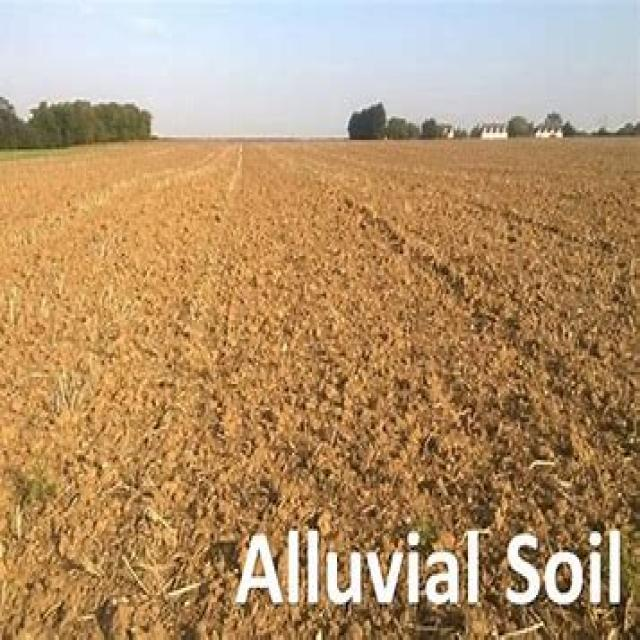Alluvial Soil: (27, 172, 628, 502)
